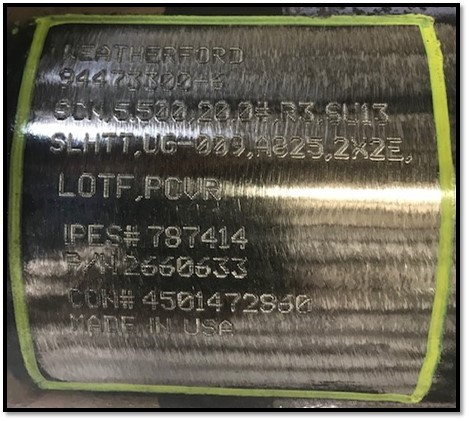character: (140, 172, 164, 202), (384, 132, 406, 164), (159, 174, 185, 201), (75, 169, 98, 199), (237, 289, 262, 316), (266, 133, 290, 161), (202, 174, 225, 203), (303, 132, 325, 162), (113, 170, 135, 200), (192, 131, 213, 162), (182, 221, 203, 252), (206, 68, 230, 95), (329, 134, 352, 162), (51, 94, 73, 123), (85, 95, 106, 125), (346, 137, 371, 162), (96, 251, 120, 277), (80, 129, 103, 156), (229, 252, 251, 280), (370, 99, 391, 128), (183, 174, 204, 203), (85, 221, 106, 250), (162, 223, 183, 252), (339, 98, 359, 128), (158, 129, 180, 156), (140, 288, 162, 315), (121, 223, 142, 251), (175, 252, 196, 280), (199, 221, 219, 250), (137, 254, 161, 278), (174, 43, 197, 68), (234, 98, 257, 123), (225, 132, 247, 158), (274, 290, 296, 316), (205, 288, 226, 315), (70, 96, 90, 124), (56, 170, 76, 198), (321, 102, 344, 126), (216, 315, 239, 339), (142, 128, 161, 157), (96, 170, 115, 199), (139, 69, 161, 94), (157, 68, 179, 93), (77, 251, 99, 276), (65, 285, 87, 310), (295, 99, 316, 125), (47, 131, 68, 157), (210, 253, 231, 279), (157, 288, 177, 315), (210, 131, 229, 159), (146, 223, 165, 251), (132, 99, 153, 124), (152, 99, 173, 124), (168, 97, 189, 122), (288, 133, 306, 162), (105, 222, 125, 248), (119, 254, 141, 277), (89, 65, 110, 89), (108, 66, 129, 90), (111, 99, 132, 123), (369, 134, 387, 162), (99, 287, 120, 311), (152, 317, 176, 338), (180, 315, 201, 339), (252, 133, 272, 158), (176, 289, 196, 314), (292, 289, 312, 314), (72, 63, 91, 89), (158, 252, 177, 278), (117, 130, 135, 157), (229, 223, 247, 250), (259, 289, 277, 316), (191, 254, 213, 276), (192, 43, 213, 66), (54, 65, 75, 88), (193, 99, 214, 122), (253, 99, 273, 123), (222, 290, 242, 314), (101, 129, 118, 157), (94, 41, 113, 66), (143, 41, 162, 66), (278, 99, 297, 124), (210, 41, 228, 67), (68, 221, 86, 247), (84, 285, 102, 311), (59, 42, 82, 62), (158, 43, 178, 66), (125, 67, 142, 94), (177, 130, 194, 157), (173, 69, 192, 93), (127, 41, 145, 66), (61, 250, 79, 275), (112, 40, 129, 66), (212, 98, 229, 124), (69, 313, 91, 333), (226, 42, 245, 65), (190, 70, 208, 94), (357, 100, 373, 127), (66, 129, 82, 156), (215, 223, 231, 250), (200, 315, 217, 340), (118, 313, 138, 334), (77, 41, 96, 63), (192, 287, 208, 313), (118, 287, 135, 310), (102, 313, 121, 333), (59, 221, 71, 247), (87, 313, 102, 333), (144, 314, 157, 334)
